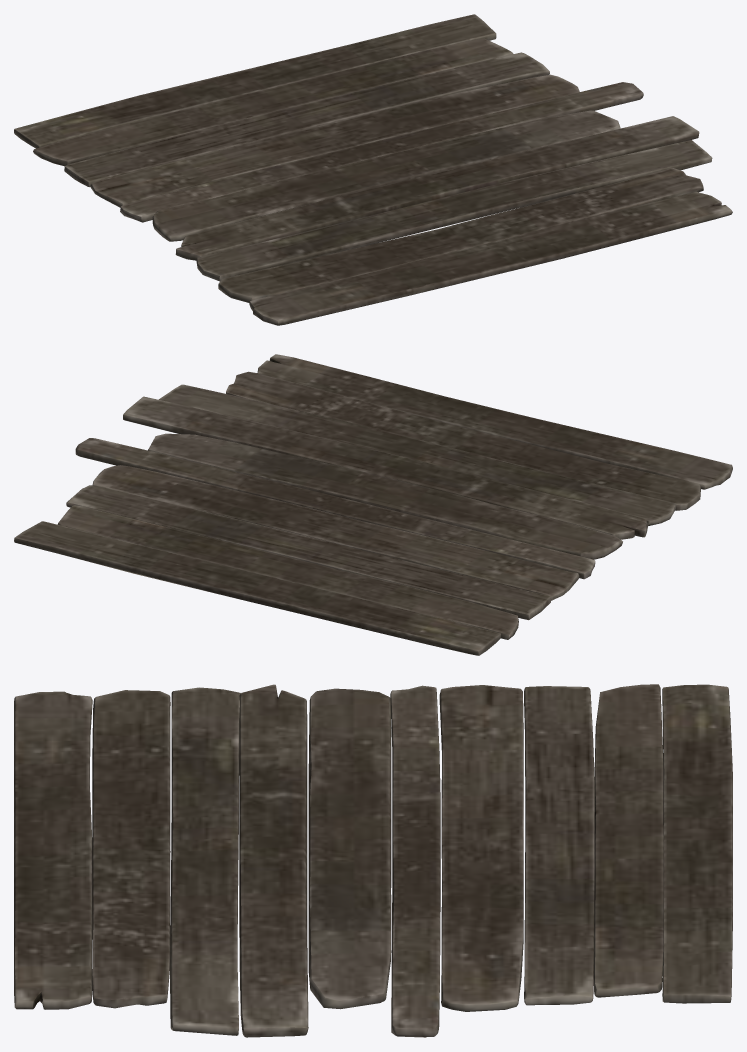
3 views of the same model, one above another, from view 1: azimuth 30°, elevation 25°; view 2: azimuth 150°, elevation 25°; view 3: azimuth 270°, elevation 25° (orthographic). The views are drawn at different scales.
Visible parts, largest first — view 1: modular_wooden_pier_kit__a_lod1; view 2: modular_wooden_pier_kit__a_lod1; view 3: modular_wooden_pier_kit__a_lod1.
Part boxes in pixels (x1,y1,x2,y2): modular_wooden_pier_kit__a_lod1: [14, 14, 732, 325]; modular_wooden_pier_kit__a_lod1: [14, 354, 732, 655]; modular_wooden_pier_kit__a_lod1: [14, 684, 732, 1037].
Size of the model in its own units: 2.52 by 0.0798 by 2.2.
1 material, 1 textured.
